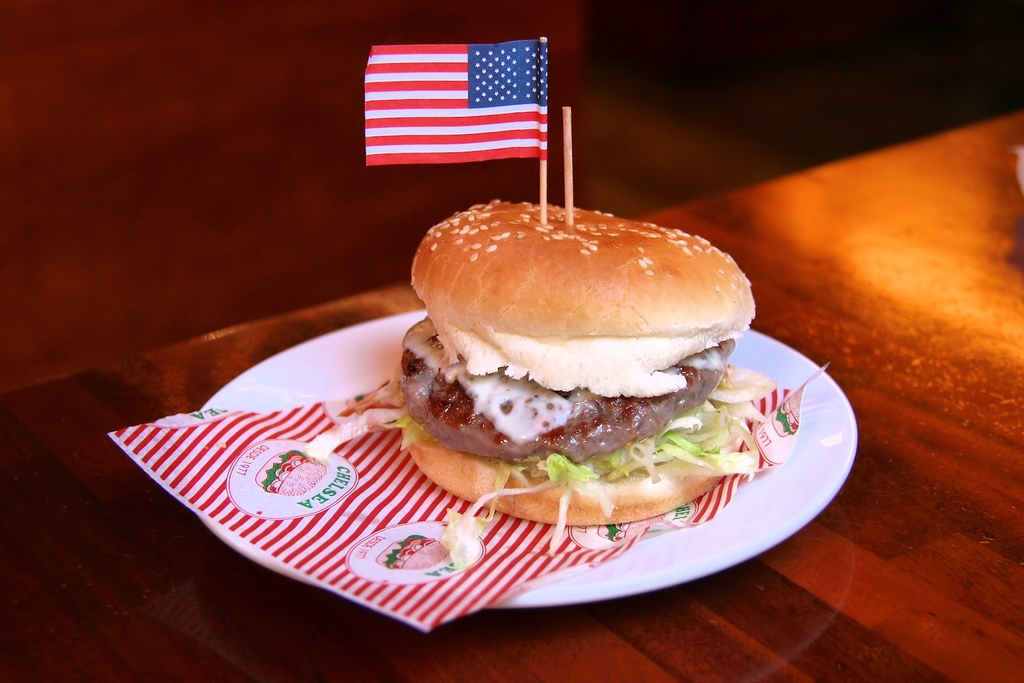Hamburger: (304, 200, 772, 572)
